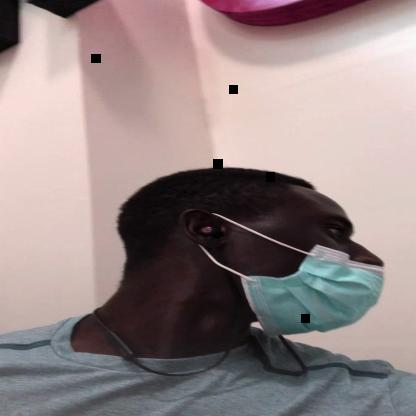mask: (202, 192, 387, 336)
